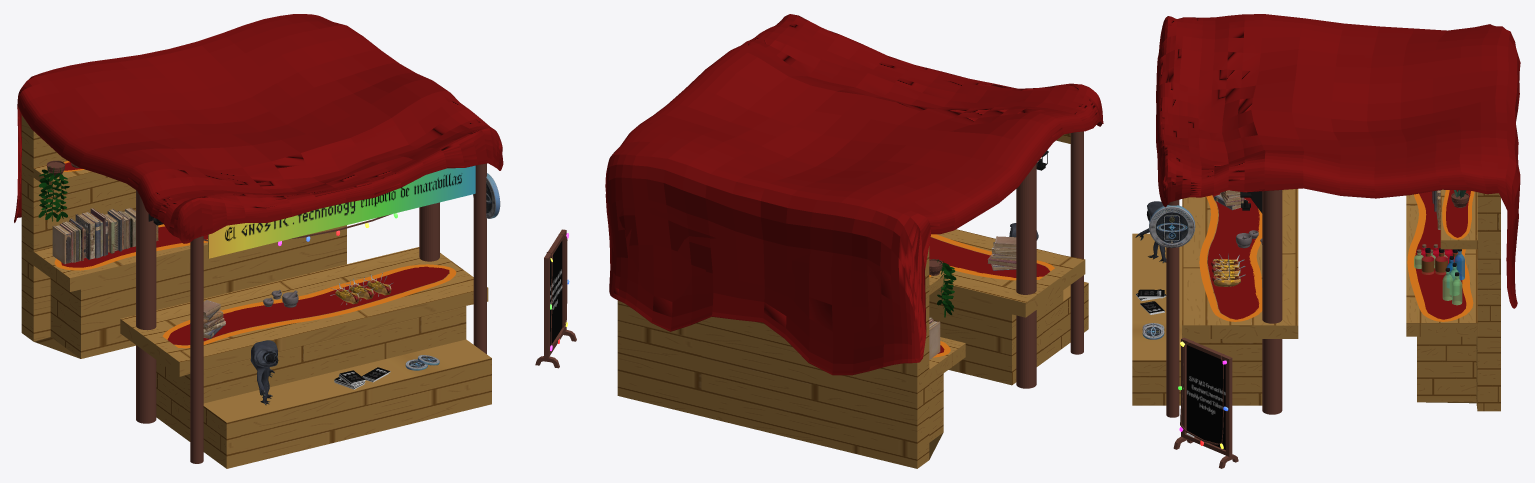
3 renders of one model, left to right at view 1: azimuth 30°, elevation 25°; view 2: azimuth 150°, elevation 25°; view 3: azimuth 270°, elevation 25°, orthographic. The views are drawn at different scales.
Visible parts, largest first — view 1: Cube.003_3, Cube_0, Cube.007_2, Plane.003_58, Sign, Cylinder_54, Object_14, Cylinder.002_56, Cube.216_609, Cylinder.003_57, Cylinder.001_55, mesh (+1 smaller); view 2: Cube.003_3, Cube.007_2, Cube_0, Cylinder_54, Cylinder.002_56, Plane.003_58, Object_10.001; view 3: Cube.003_3, Cube_0, Cube.007_2, Plane.003_58, Cube.216_609, Cylinder.001_55, Cylinder.003_57, mesh.001, Plane.004_59, mesh, Object_10.001, Cube.241_624.
Part boxes in pixels (x1,y1,x2,y2): Cube.003_3: (14,14,503,243); Cube_0: (120,247,491,468); Cube.007_2: (21,115,346,358); Plane.003_58: (54,224,456,348); Sign: (208,165,475,258); Cylinder_54: (136,190,156,423); Object_14: (52,207,158,264); Cylinder.002_56: (190,236,203,463); Cube.216_609: (535,229,576,368); Cylinder.003_57: (473,163,486,353); Cylinder.001_55: (419,202,439,261); mesh: (250,340,278,405); Cube.003_3: (605,14,1103,375); Cube.007_2: (617,246,965,468); Cube_0: (929,229,1088,385); Cylinder_54: (1016,163,1036,388); Cylinder.002_56: (1070,131,1083,354); Plane.003_58: (929,234,1054,357); Object_10.001: (987,236,1016,270); Cube.003_3: (1156,14,1520,308); Cube_0: (1132,189,1298,405); Cube.007_2: (1406,189,1500,411); Plane.003_58: (1199,191,1473,321); Cube.216_609: (1173,337,1238,468); Cylinder.001_55: (1262,190,1282,414); Cylinder.003_57: (1166,200,1179,417); mesh.001: (1149,205,1195,247); Plane.004_59: (1442,190,1474,239); mesh: (1135,201,1166,262); Object_10.001: (1214,190,1248,210); Cube.241_624: (1180,341,1224,445).
Size of what is drawn, in the model's own units: 5.41 by 3.14 by 4.25.
30 materials, 9 textured.
